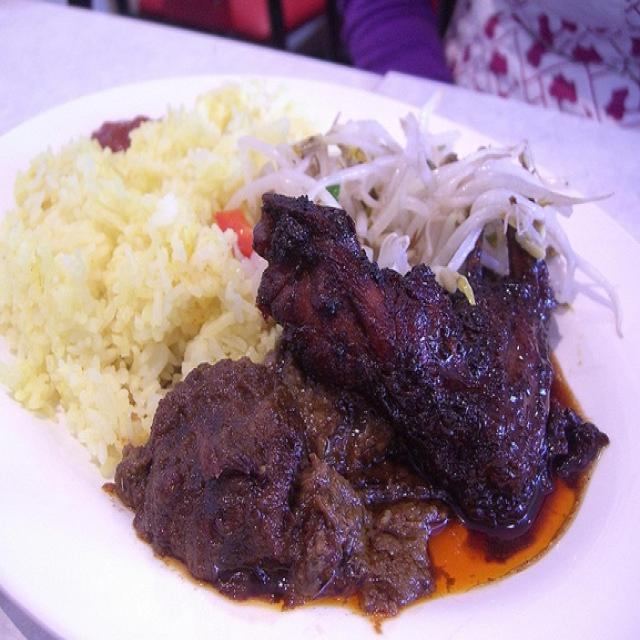米饭主食: (11, 37, 611, 615)
